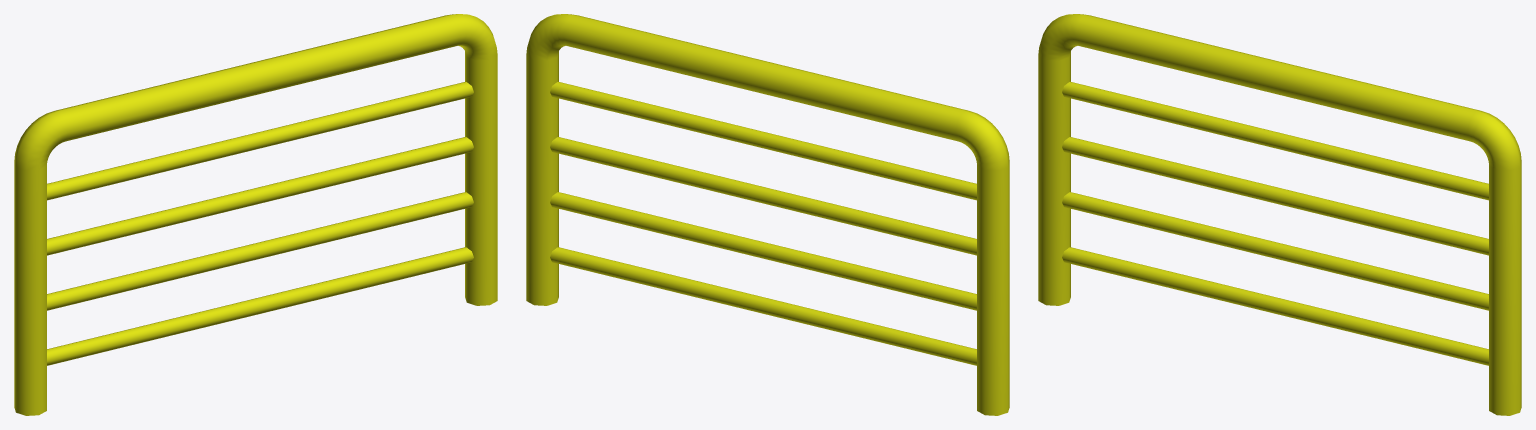
Rendered from Fence.FBX.
The picture shows the model from 3 angles, left to right: view 1: azimuth 30°, elevation 25°; view 2: azimuth 150°, elevation 25°; view 3: azimuth 330°, elevation 25°; orthographic projection.
Parts seen in each view (by area): view 1: Fence; view 2: Fence; view 3: Fence.
Part boxes in pixels (x1,y1,x2,y2): Fence: [14, 14, 497, 415]; Fence: [526, 14, 1009, 415]; Fence: [1038, 14, 1521, 415].
Bounding box in the file's own units: 164 × 95 × 10.
